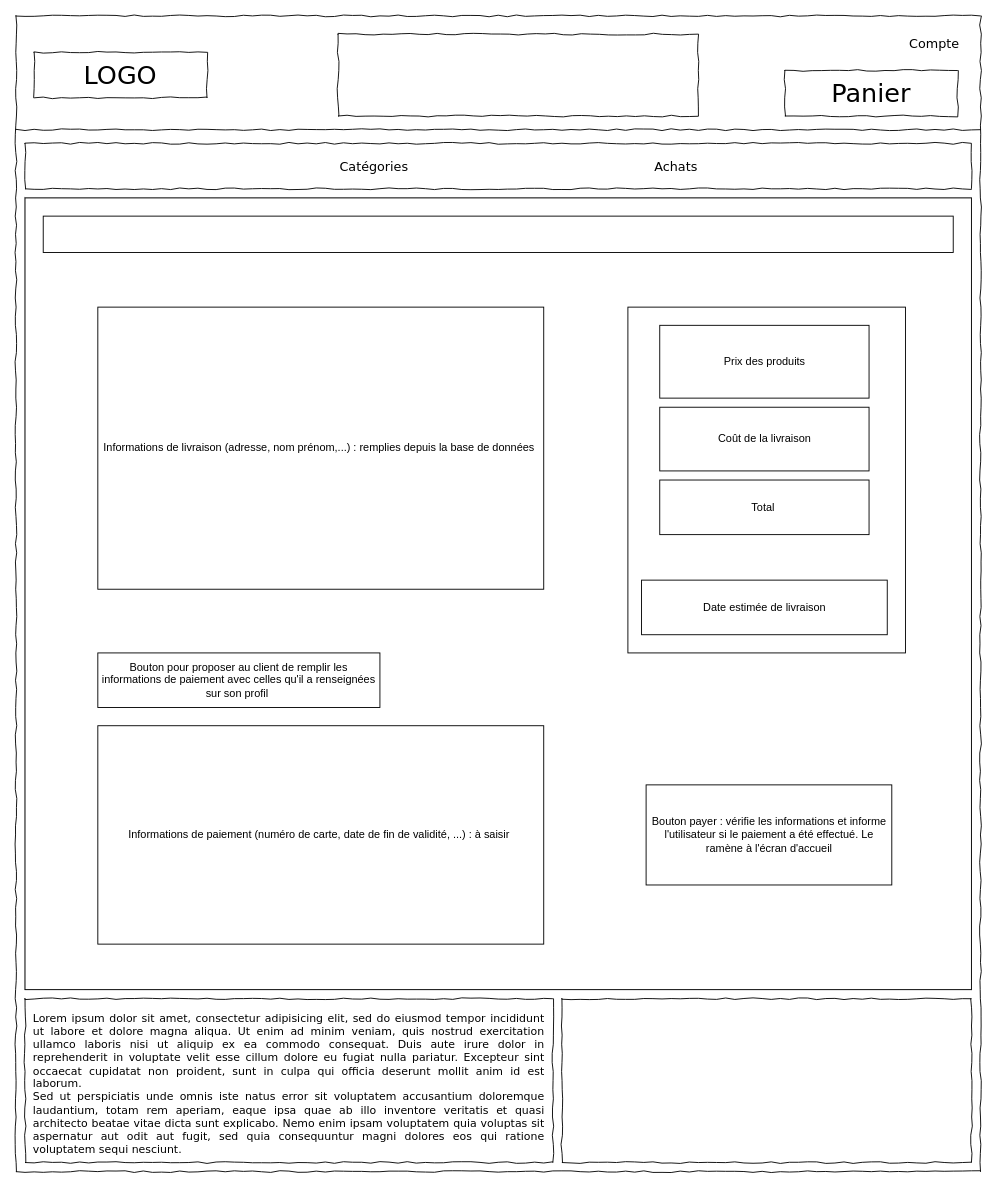
Some shapes in this 996 by 1188 pixel diagram are drawn without their labels. Each missing label, with the centre of its shape:
Bienvenue ...: the point at 517,74
Finalisation du paiement: the point at 497,234
Nous contacter: the point at 766,1080
